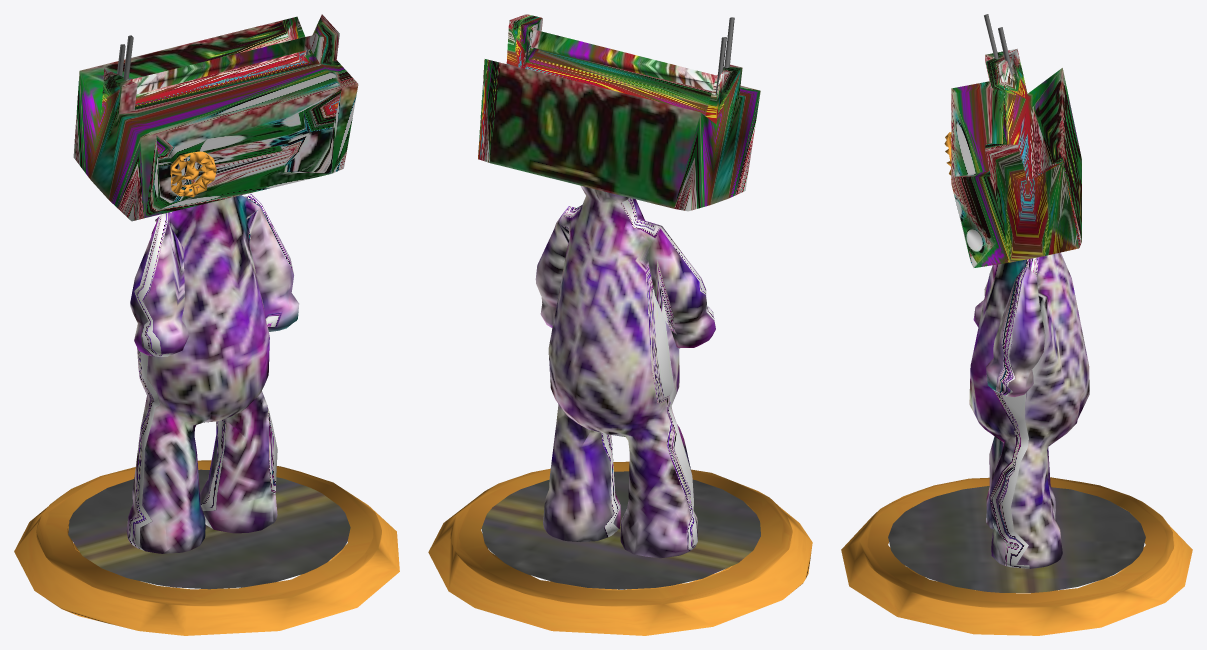
3 views of the same model, side by side, from view 1: azimuth 30°, elevation 25°; view 2: azimuth 150°, elevation 25°; view 3: azimuth 270°, elevation 25° (orthographic). The views are drawn at different scales.
Bounding box in the file's own units: 1.44 × 2.27 × 1.43.
Materials: 5 (4 with a texture image).
